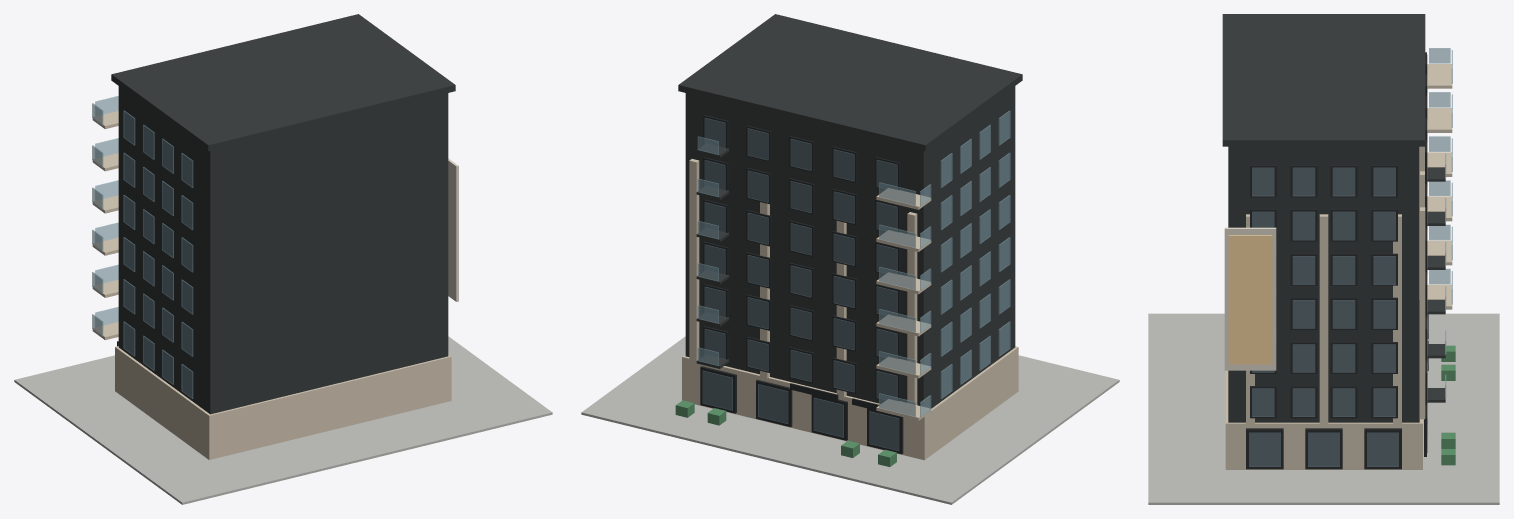
File: tower.glb
3 views of the same model, side by side, from view 1: azimuth 30°, elevation 25°; view 2: azimuth 150°, elevation 25°; view 3: azimuth 270°, elevation 25° (orthographic). The views are drawn at different scales.
Parts seen in each view (by area): view 1: main_dark_7_floor_body, paved_site_slab, low_flat_roof_parapet, commercial_beige_ground_floor, generic_side_lightbox_panel; view 2: main_dark_7_floor_body, low_flat_roof_parapet, paved_site_slab, commercial_beige_ground_floor, front_beige_ribbed_pier_8.25, front_storefront_frame_2.1, front_storefront_frame_6.3, front_beige_ribbed_pier_-8.25, front_storefront_frame_-2.1, front_storefront_frame_-6.3, front_storefront_glass_-2.1, front_storefront_glass_2.1 (+57 smaller); view 3: paved_site_slab, low_flat_roof_parapet, main_dark_7_floor_body, lightbox_warm_glow, commercial_beige_ground_floor, generic_side_lightbox_panel, side_beige_ribbed_pier_0, side_storefront_frame_-3.7, side_storefront_frame_0, side_storefront_frame_3.7, front_beige_ribbed_pier_8.25, side_beige_ribbed_pier_-4.6 (+50 smaller).
Boxes of the visible parts, x1,y1,x2,y2 form: main_dark_7_floor_body: (118,86,448,414); paved_site_slab: (14,336,552,504); low_flat_roof_parapet: (111,14,455,151); commercial_beige_ground_floor: (115,346,451,459); generic_side_lightbox_panel: (448,158,458,301); main_dark_7_floor_body: (685,86,1015,408); low_flat_roof_parapet: (678,14,1022,151); paved_site_slab: (581,336,1119,504); commercial_beige_ground_floor: (682,346,1018,460); front_beige_ribbed_pier_8.25: (689,159,699,361); front_storefront_frame_2.1: (756,379,792,426); front_storefront_frame_6.3: (700,366,736,413); front_beige_ribbed_pier_-8.25: (907,212,917,404); front_storefront_frame_-2.1: (811,395,847,440); front_storefront_frame_-6.3: (867,408,903,454); front_storefront_glass_-2.1: (813,397,843,437); front_storefront_glass_2.1: (758,384,788,423); paved_site_slab: (1148,313,1499,504); low_flat_roof_parapet: (1222,14,1425,146); main_dark_7_floor_body: (1228,146,1419,422); lightbox_warm_glow: (1228,235,1272,364); commercial_beige_ground_floor: (1225,300,1422,469); generic_side_lightbox_panel: (1224,227,1276,370); side_beige_ribbed_pier_0: (1319,214,1328,424); side_storefront_frame_-3.7: (1364,428,1401,469); side_storefront_frame_0: (1305,428,1342,469); side_storefront_frame_3.7: (1246,428,1283,469); front_beige_ribbed_pier_8.25: (1420,207,1425,419); side_beige_ribbed_pier_-4.6: (1393,214,1401,424).
Bounding box in the file's own units: 28 × 23.04 × 22.
